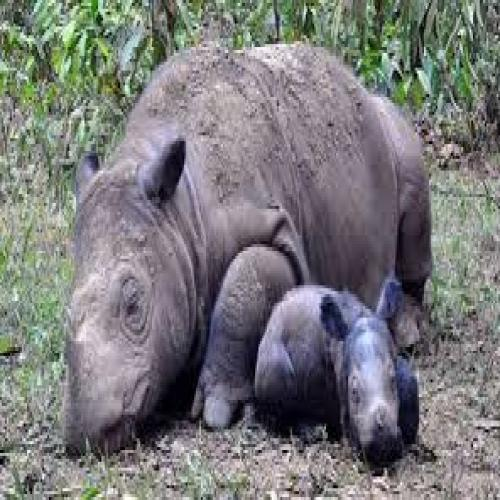rhino-endangered: (57, 38, 433, 451), (252, 273, 421, 466)
